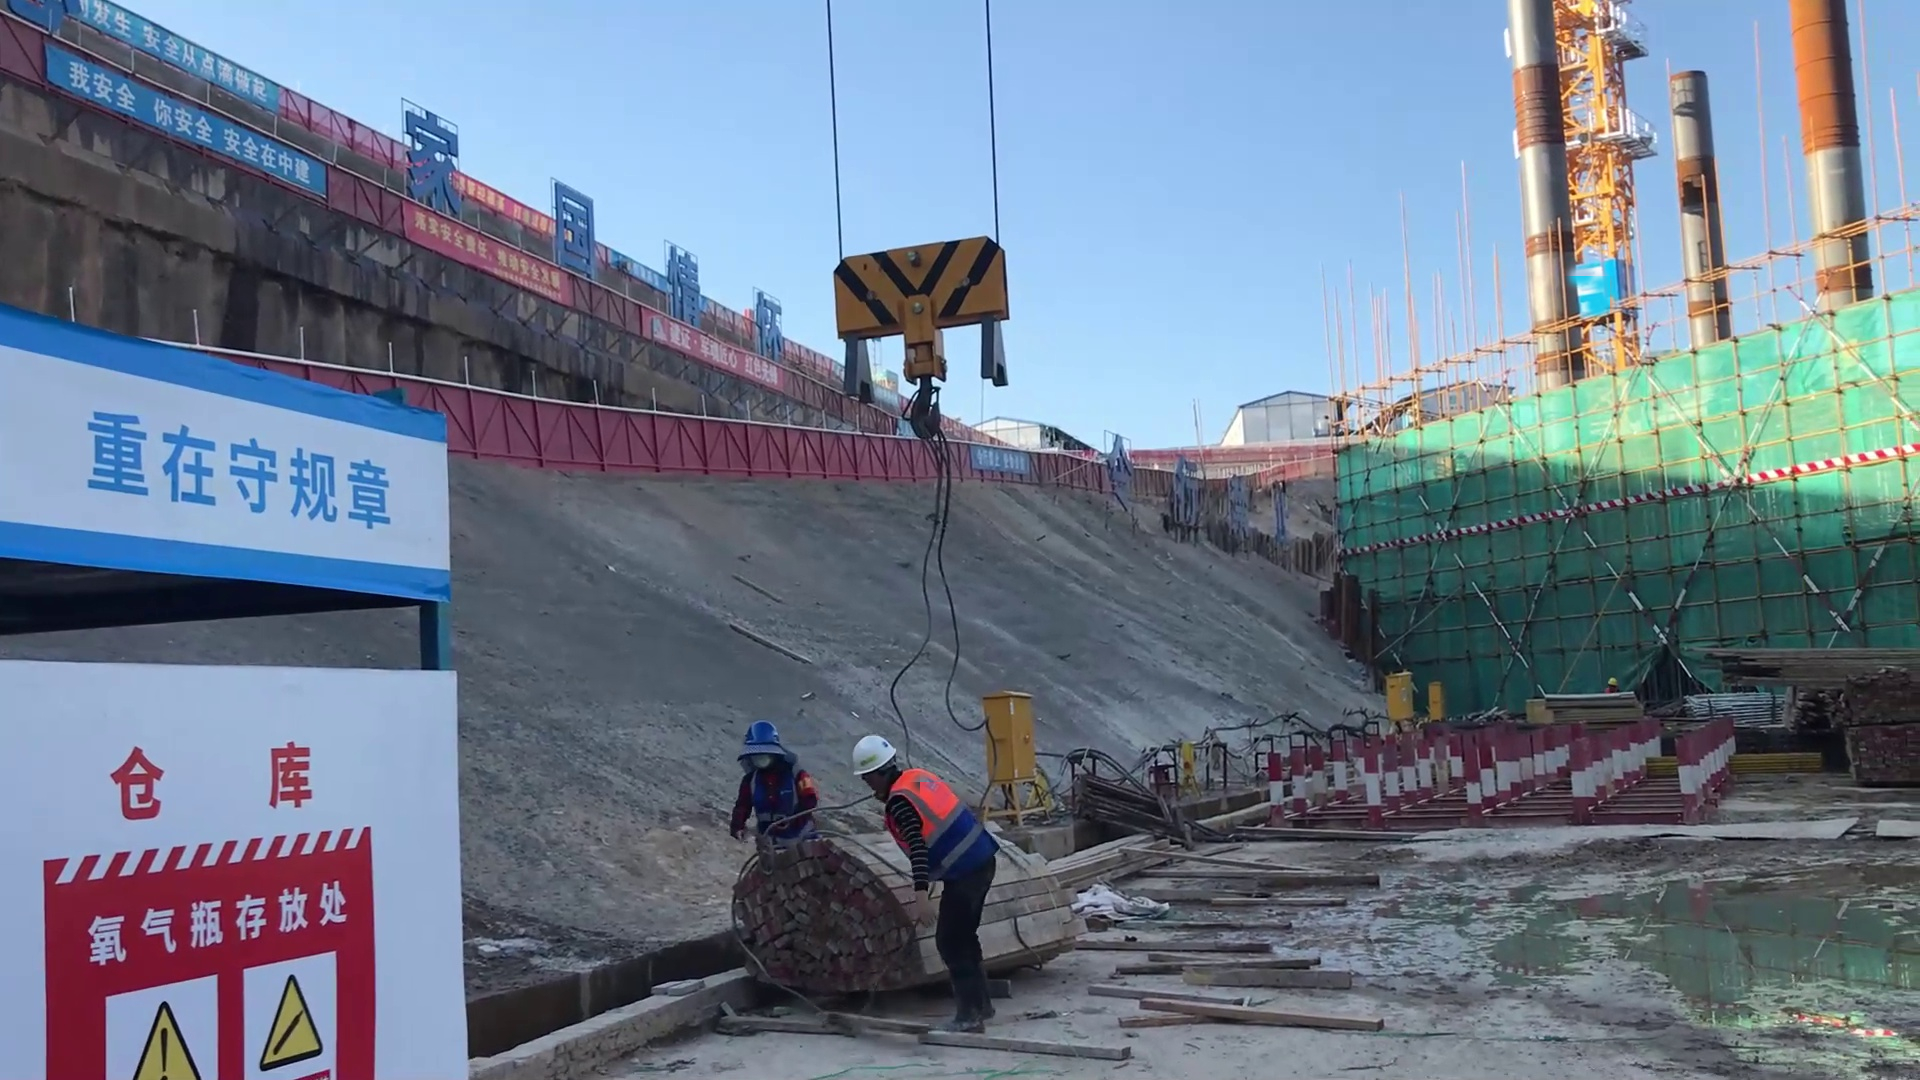ebox: (982, 676, 1067, 826), (1384, 666, 1414, 724), (1423, 671, 1445, 718)
fence: (447, 386, 793, 483), (786, 426, 932, 483)
helmet: (843, 732, 883, 782), (741, 722, 773, 759)
hook: (842, 227, 1012, 404)
person: (844, 725, 1028, 1038), (723, 709, 822, 857)
slogan: (56, 344, 421, 587), (77, 886, 350, 1080), (43, 70, 326, 229), (389, 194, 597, 349), (110, 1, 311, 123)
vest: (884, 765, 962, 844)
wood: (1117, 793, 1385, 1059), (717, 857, 871, 1024), (1670, 642, 1920, 711)
